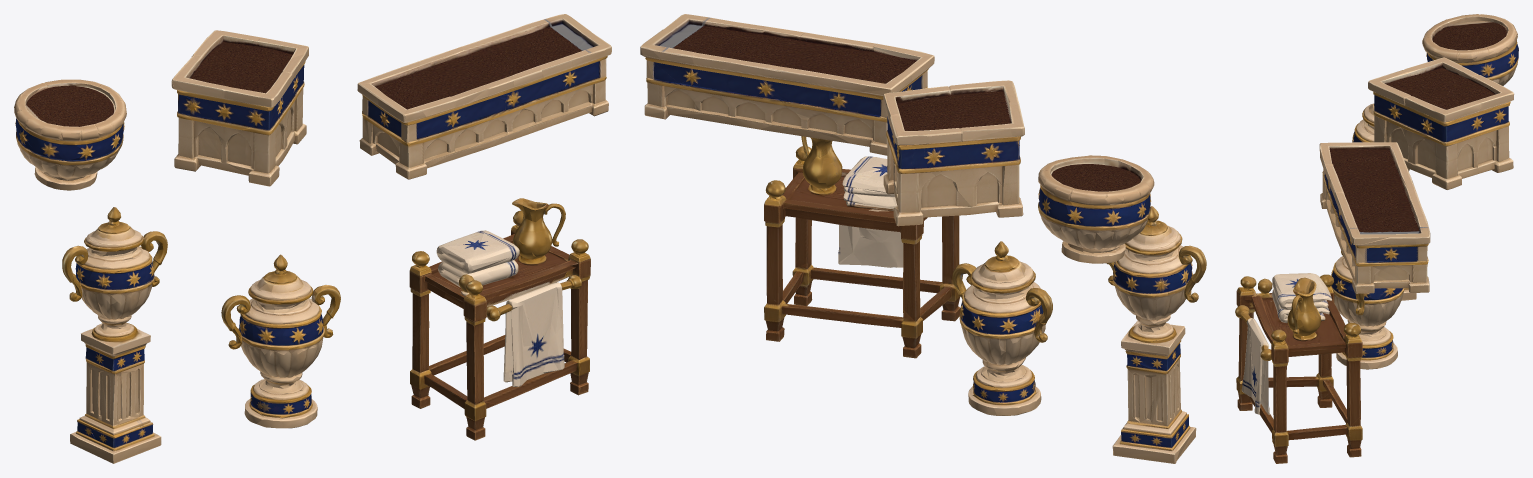
The model's file is sheet-bath.glb.
The picture shows the model from 3 angles, left to right: view 1: azimuth 30°, elevation 25°; view 2: azimuth 150°, elevation 25°; view 3: azimuth 270°, elevation 25°; orthographic projection. The views are drawn at different scales.
Visible parts, largest first — view 1: Mesh_0; view 2: Mesh_0; view 3: Mesh_0.
Part boxes in pixels (x1=…): Mesh_0: x1=14, y1=14, x2=611, y2=463; Mesh_0: x1=640, y1=14, x2=1206, y2=463; Mesh_0: x1=1235, y1=14, x2=1518, y2=463.
Bounding box in the file's own units: 1.9 × 1.09 × 1.02.
1 material, 1 textured.
